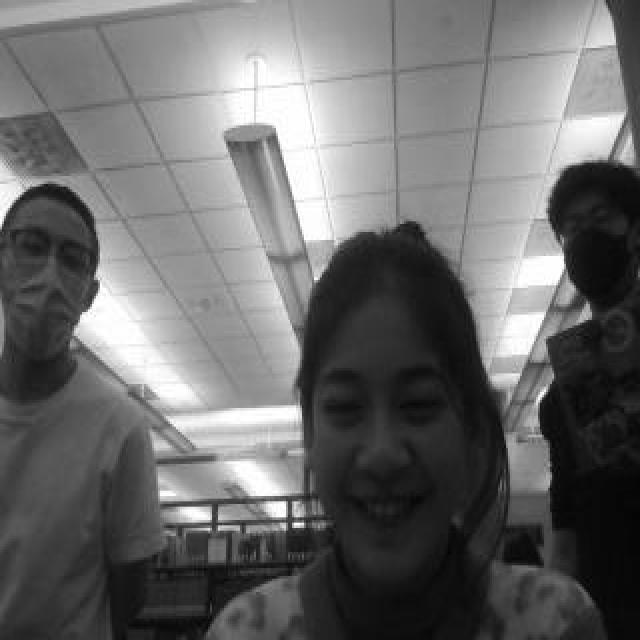Focused: (309, 277, 463, 592)
